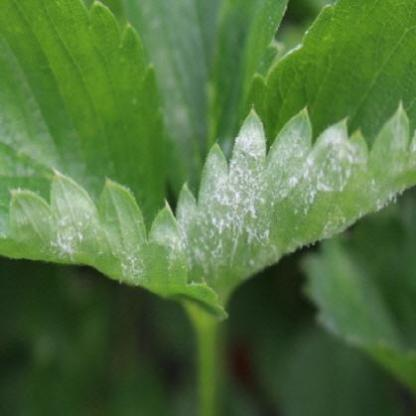Strawberry_Powdery_Mildew_Leaf: (0, 0, 228, 322), (176, 0, 416, 303)
